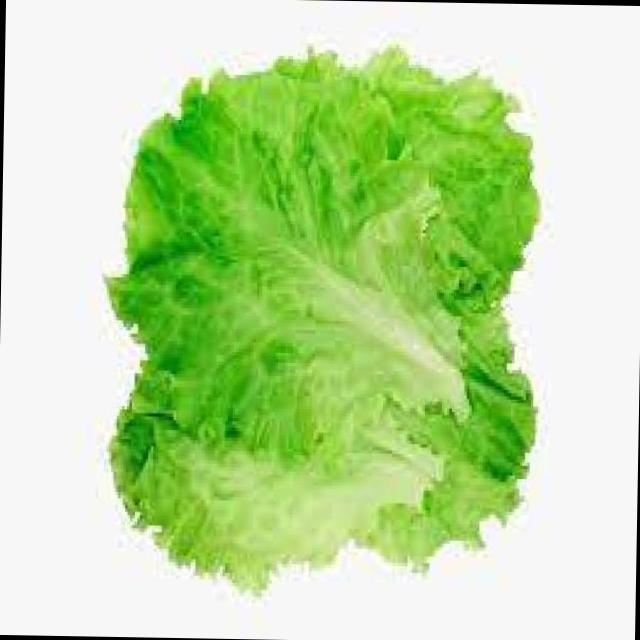Lettuce-Ready-to-Harvest: (110, 50, 536, 588)
